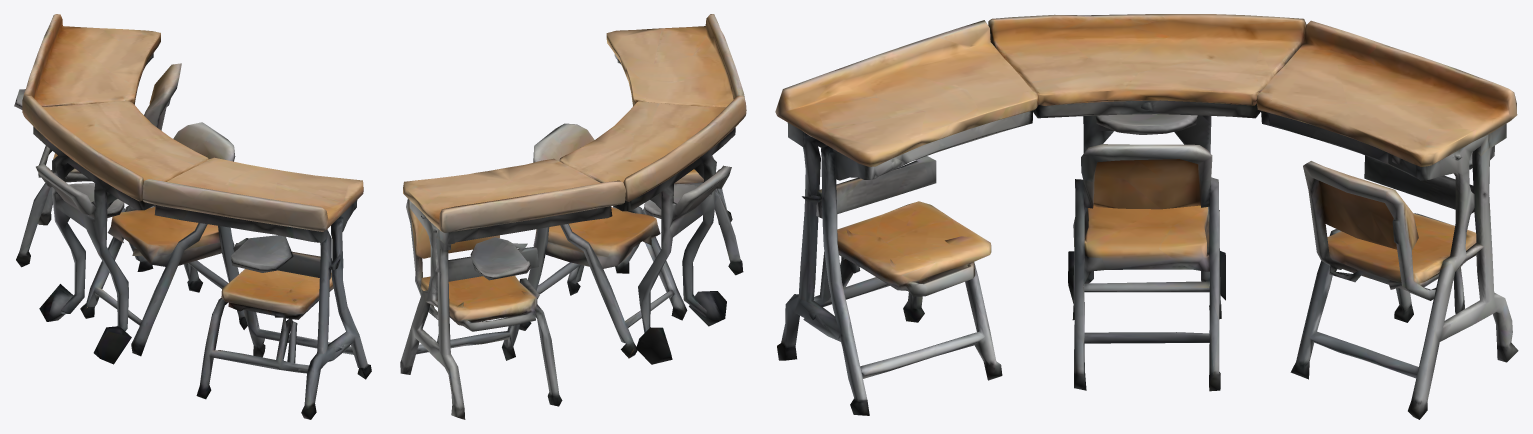
The model's file is lecture-desks.glb.
3 renders of one model, left to right at view 1: azimuth 30°, elevation 25°; view 2: azimuth 150°, elevation 25°; view 3: azimuth 270°, elevation 25°, orthographic. The views are drawn at different scales.
Parts seen in each view (by area): view 1: tripo_node_8c115896-d712-4632-962c-ce6c8d8bae24; view 2: tripo_node_8c115896-d712-4632-962c-ce6c8d8bae24; view 3: tripo_node_8c115896-d712-4632-962c-ce6c8d8bae24.
Boxes of the visible parts, box(x1,y1,x2,y2) form: tripo_node_8c115896-d712-4632-962c-ce6c8d8bae24: box(14, 14, 371, 419); tripo_node_8c115896-d712-4632-962c-ce6c8d8bae24: box(400, 14, 746, 419); tripo_node_8c115896-d712-4632-962c-ce6c8d8bae24: box(775, 14, 1518, 419).
Size of the model in its own units: 0.462 by 0.4211 by 1.
Materials: 1 (1 with a texture image).
